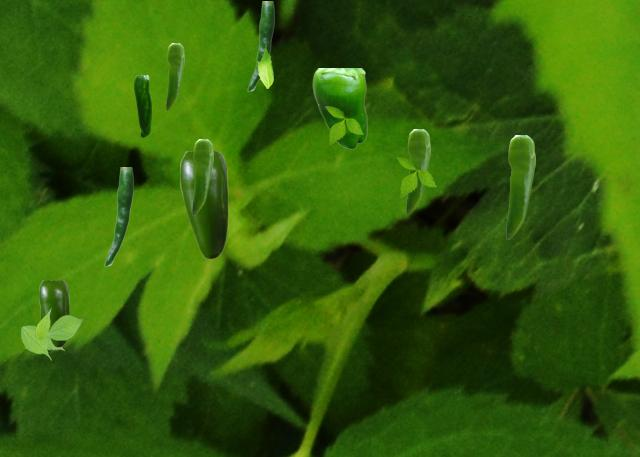green_chili: (180, 151, 227, 258), (312, 68, 366, 148), (506, 135, 534, 238), (104, 167, 132, 265), (247, 1, 273, 90), (406, 129, 429, 213), (39, 280, 68, 346), (192, 139, 212, 214), (166, 43, 183, 109), (134, 75, 150, 136), (40, 311, 52, 351)
